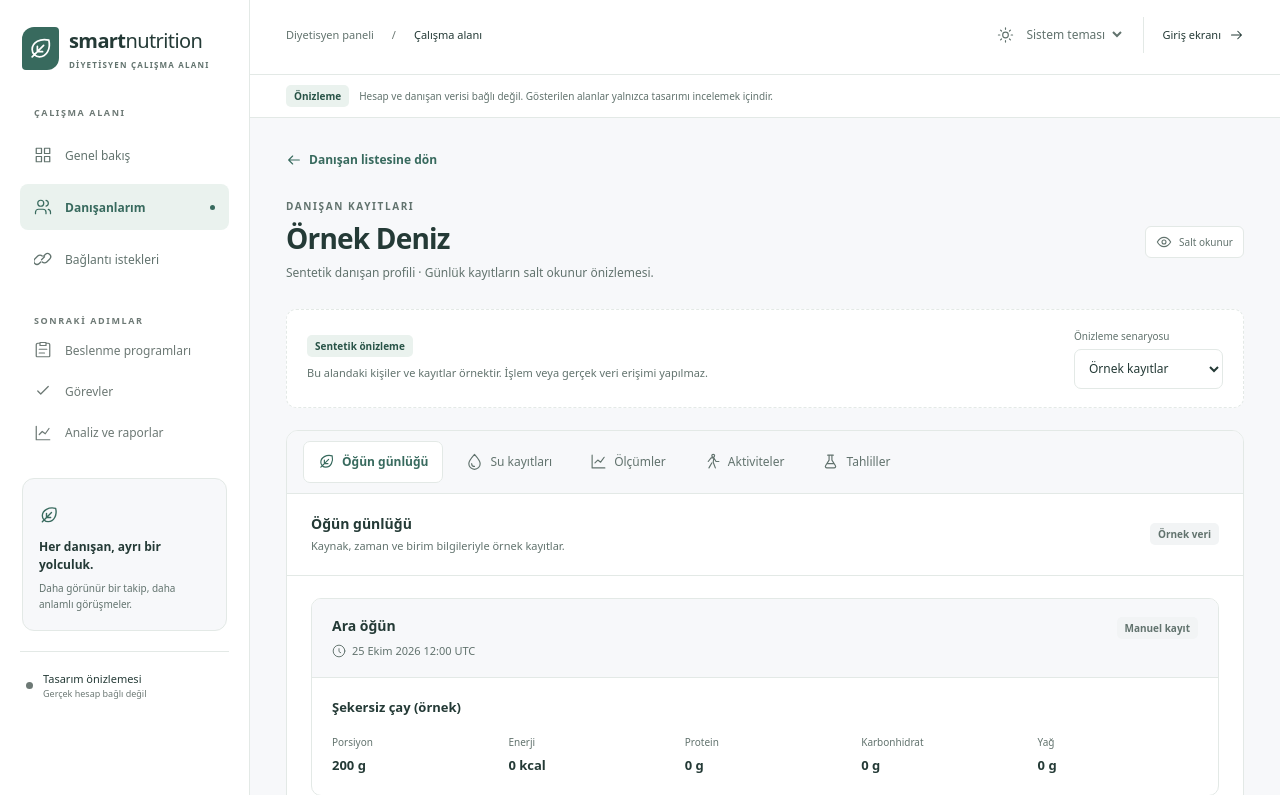
Test: read-only lab report history › opens from navigation with units, genuine zero references and no requests or storage
Click the link "Tahliller": (856, 462) [822,453,890,470]
(page scrolled)
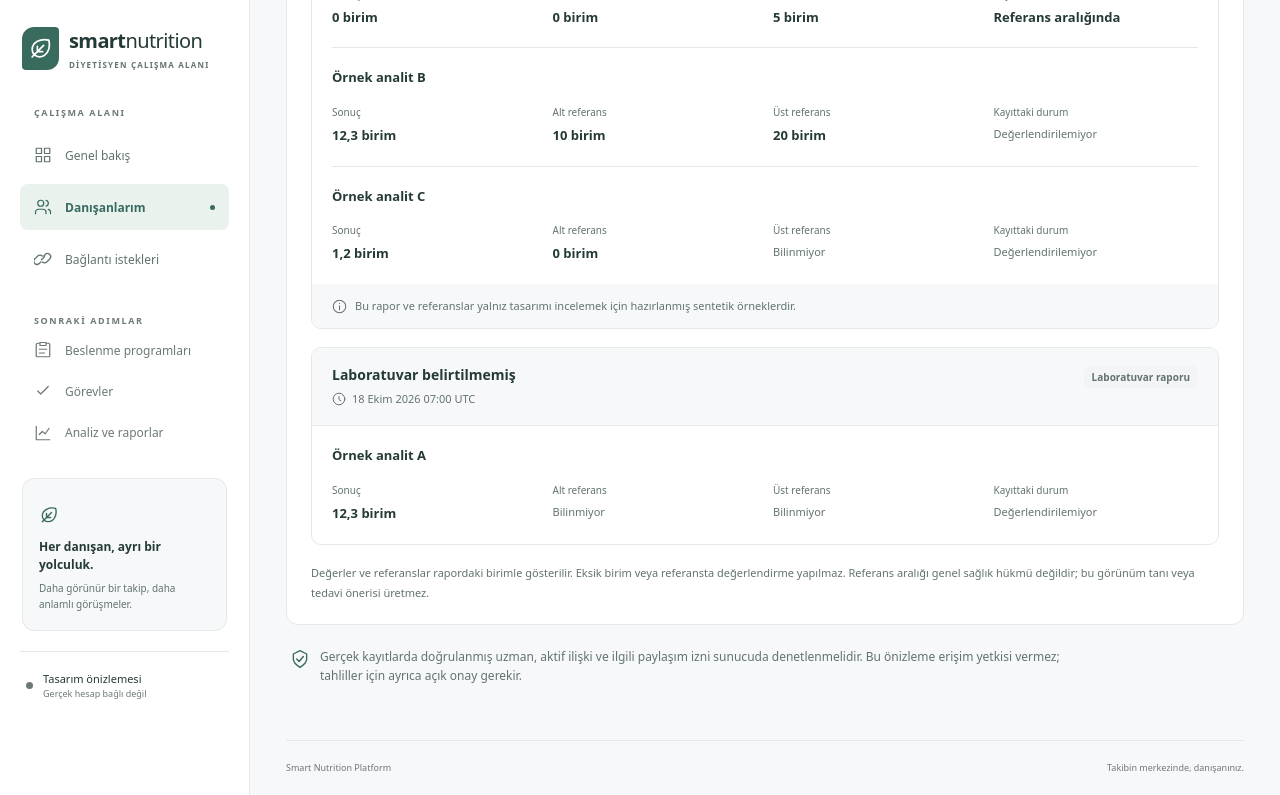
Expected: the text "5 birim" is shown, [773,8,819,26]
Expected: the text "Referans aralığında" is shown, [994,8,1120,26]
Expected: the text "1,2 birim" is shown, [332,244,389,262]
